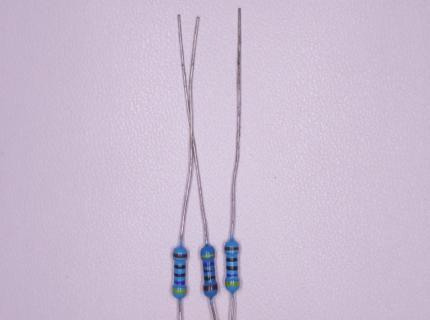Black band: (204, 275, 216, 281), (226, 257, 238, 262), (203, 269, 215, 274), (227, 266, 238, 271), (174, 274, 186, 278), (174, 265, 185, 269)
Brown band: (202, 284, 218, 292), (173, 253, 188, 259), (225, 246, 239, 251)
Violet band: (203, 261, 214, 267), (174, 281, 186, 286), (227, 274, 238, 278)
Yellow band: (200, 253, 216, 259), (172, 288, 187, 294), (225, 282, 239, 287)
